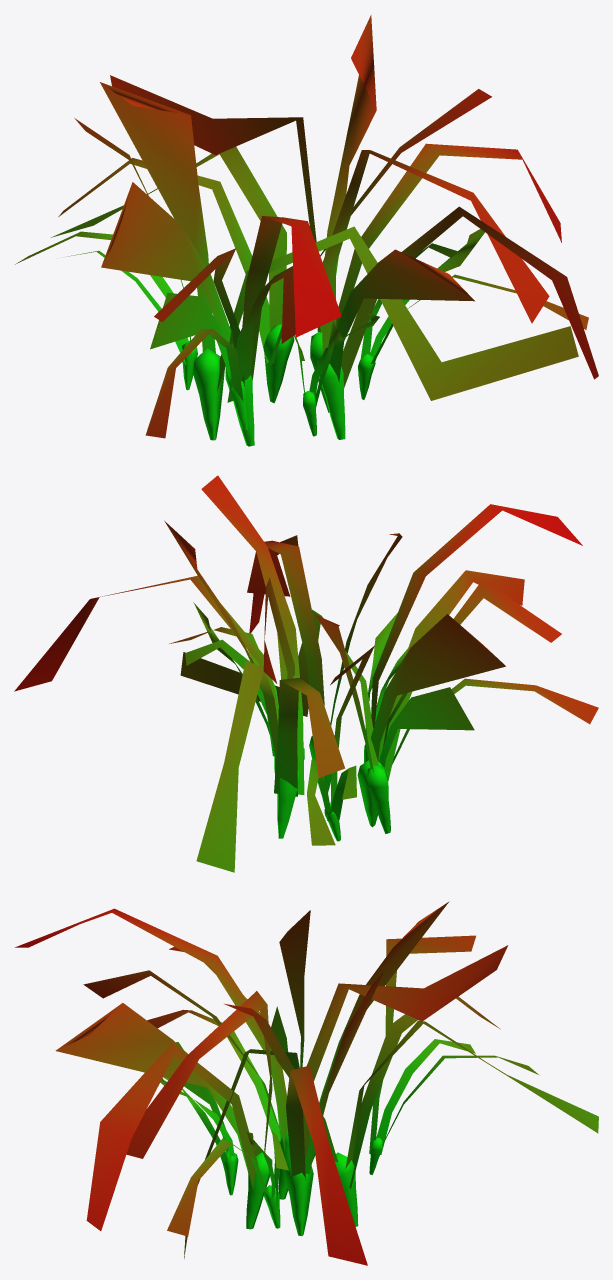
Rendered from Var6.fbx.
3 renders of one model, top to bottom at view 1: azimuth 30°, elevation 25°; view 2: azimuth 150°, elevation 25°; view 3: azimuth 270°, elevation 25°, orthographic. The views are drawn at different scales.
Parts seen in each view (by area): view 1: Var6; view 2: Var6; view 3: Var6.
Part boxes in pixels (x1=…): Var6: x1=15, y1=15, x2=598, y2=446; Var6: x1=14, y1=475, x2=598, y2=872; Var6: x1=15, y1=901, x2=598, y2=1265.
Size of the model in its own units: 31.48 by 19.49 by 33.63.
